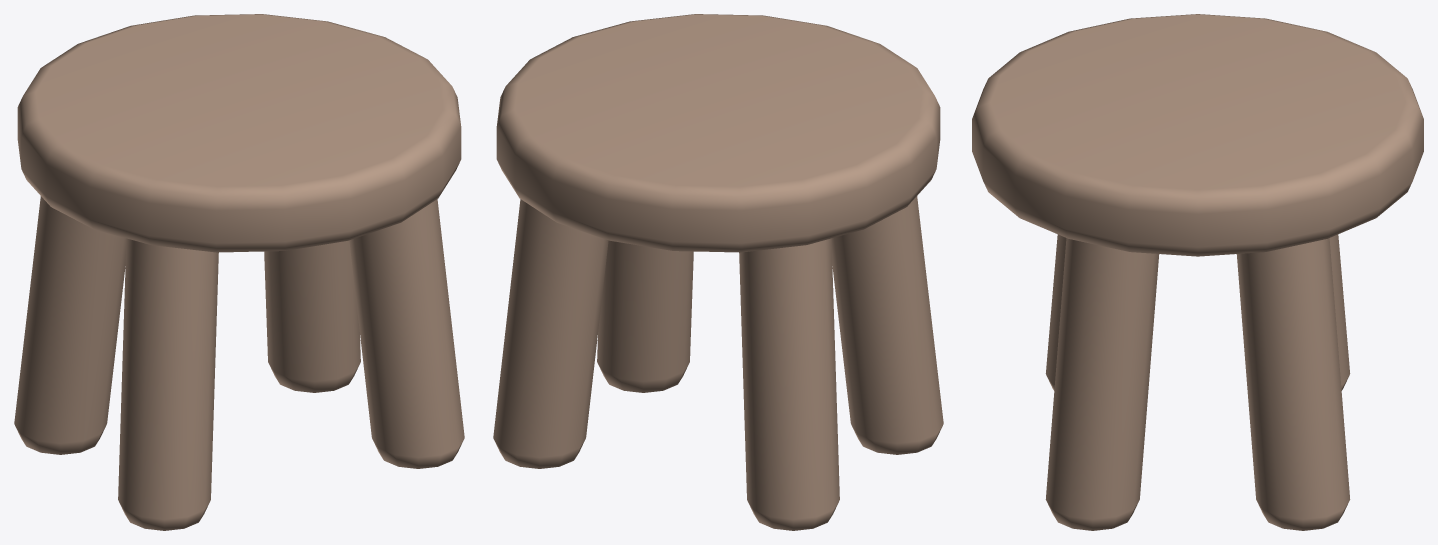
Rendered from Chair_9.glb.
3 renders of one model, left to right at view 1: azimuth 30°, elevation 25°; view 2: azimuth 150°, elevation 25°; view 3: azimuth 270°, elevation 25°, orthographic.
Parts seen in each view (by area): view 1: Chair_9; view 2: Chair_9; view 3: Chair_9.
Part boxes in pixels (<box>): Chair_9: <box>14,14,464,530</box>; Chair_9: <box>493,14,943,530</box>; Chair_9: <box>972,14,1423,530</box>.
Size of the model in its own units: 0.6744 by 0.5848 by 0.6744.
Materials: 1 (1 with a texture image).
